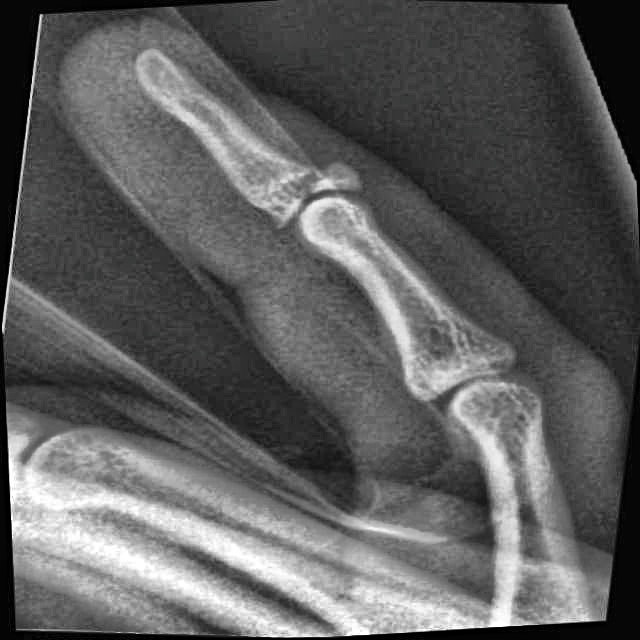Greenstick: (240, 157, 380, 237)
